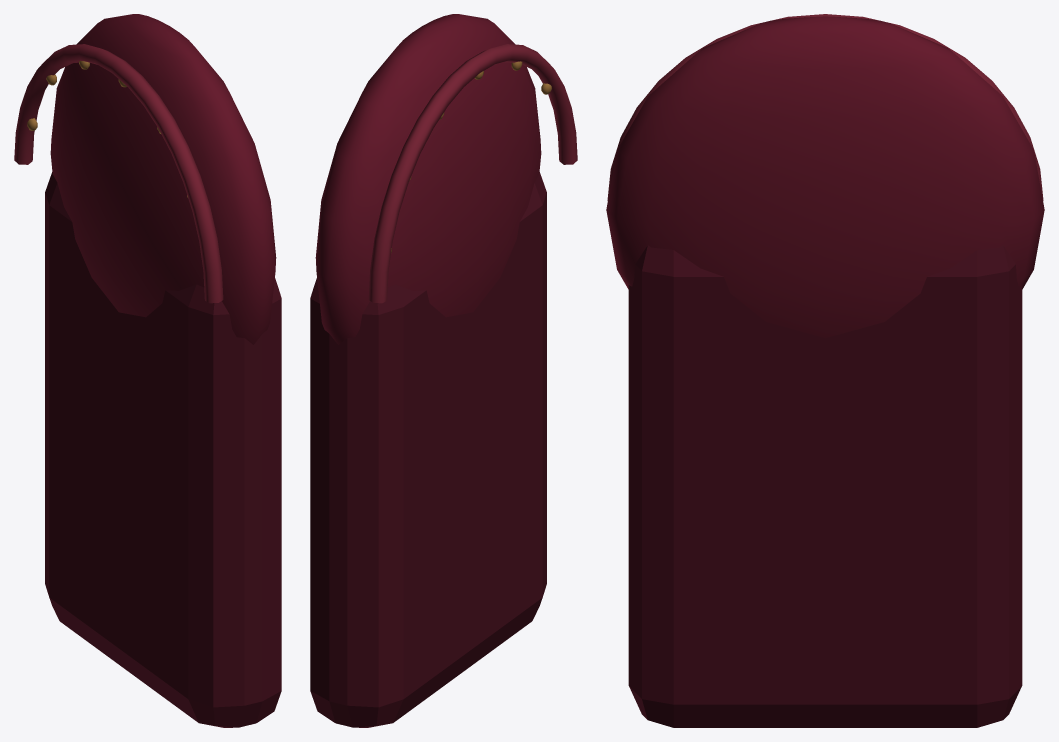
Rendered from SM_Menu_AudienceSeat_05.fbx.
3 renders of one model, left to right at view 1: azimuth 30°, elevation 25°; view 2: azimuth 150°, elevation 25°; view 3: azimuth 270°, elevation 25°, orthographic. The views are drawn at different scales.
Visible parts, largest first — view 1: Audience chair back.006_Baked; view 2: Audience chair back.006_Baked; view 3: Audience chair back.006_Baked.
Part boxes in pixels (left/top/right/bottom): Audience chair back.006_Baked: left=14, top=14, right=281, bottom=727; Audience chair back.006_Baked: left=310, top=14, right=577, bottom=727; Audience chair back.006_Baked: left=606, top=14, right=1044, bottom=727.
Size of the model in its own units: 24 by 78 by 138.
